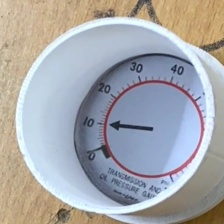gauge: (74, 54, 206, 207)
